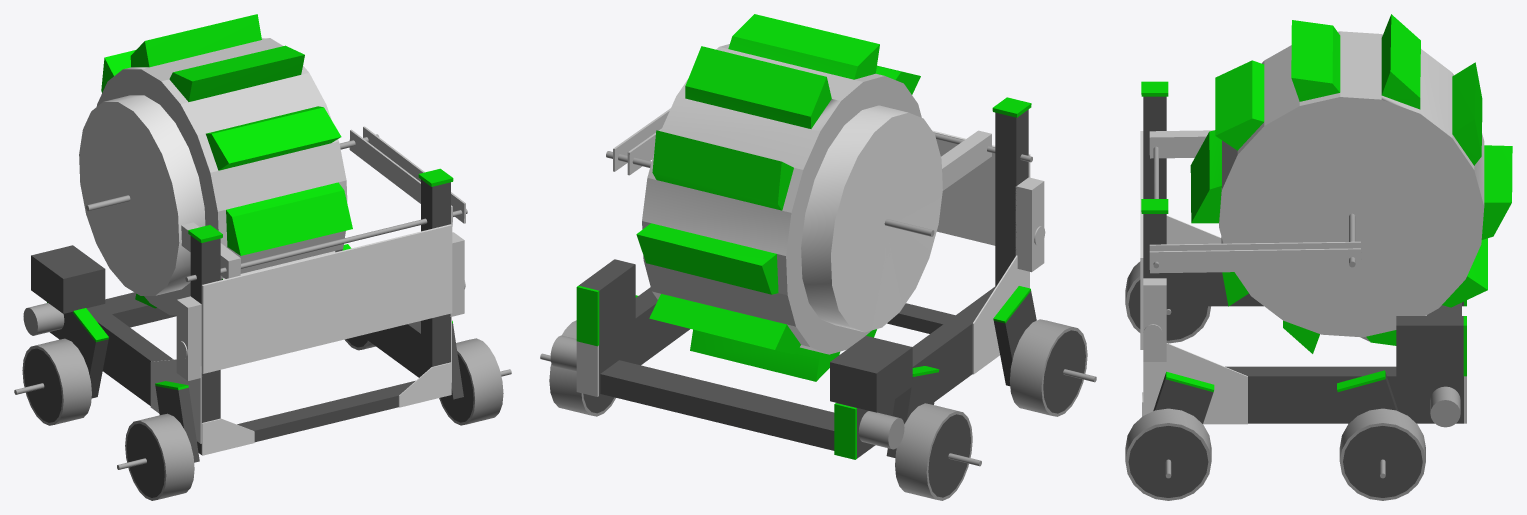
File: Lunabot_1_6.fbx
3 renders of one model, left to right at view 1: azimuth 30°, elevation 25°; view 2: azimuth 150°, elevation 25°; view 3: azimuth 270°, elevation 25°, orthographic. The views are drawn at different scales.
Visible parts, largest first — view 1: collectorWheel, rbt_body, collectorArm, wheel_FL, wheel_BL, wheel_BR; view 2: collectorWheel, rbt_body, wheel_BL, wheel_FL, collectorArm, wheel_FR; view 3: collectorWheel, rbt_body, collectorArm, wheel_FR, wheel_BR, wheel_BL.
Boxes of the visible parts, x1,y1,x2,y2 form: collectorWheel: (79, 14, 352, 315); rbt_body: (14, 168, 511, 469); collectorArm: (86, 126, 467, 281); wheel_FL: (22, 338, 91, 425); wheel_BL: (125, 413, 194, 500); wheel_BR: (439, 338, 503, 425); collectorWheel: (636, 14, 942, 381); rbt_body: (540, 97, 1096, 466); wheel_BL: (1009, 319, 1087, 416); wheel_FL: (895, 403, 972, 500); collectorArm: (606, 108, 1032, 236); wheel_FR: (549, 320, 615, 416); collectorWheel: (1190, 14, 1512, 353); rbt_body: (1140, 81, 1466, 478); collectorArm: (1149, 130, 1361, 273); wheel_FR: (1339, 408, 1425, 500); wheel_BR: (1125, 408, 1211, 500); wheel_BL: (1125, 261, 1210, 343).
Size of the model in its own units: 6.97 by 6 by 5.7.
